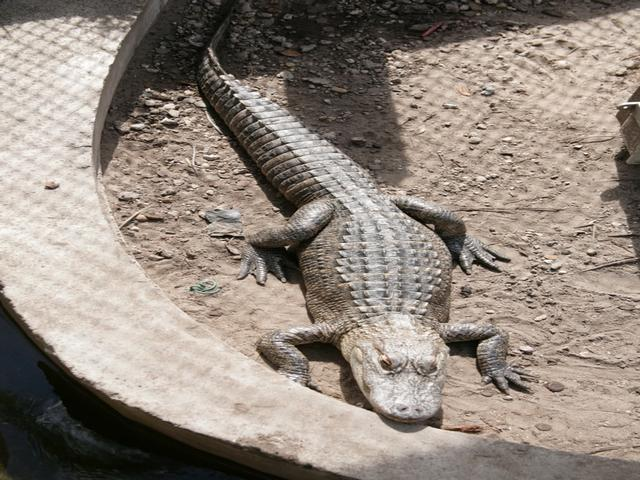crocodile: (185, 18, 550, 408)
